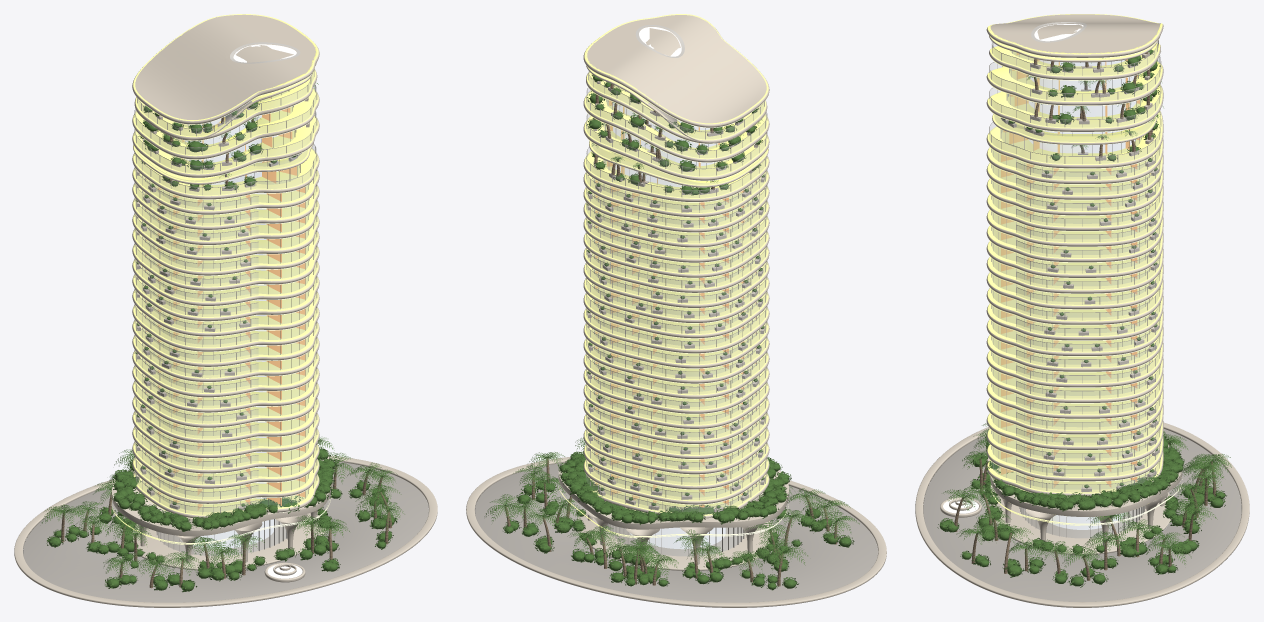
File: isabella_v3.glb
3 renders of one model, left to right at view 1: azimuth 30°, elevation 25°; view 2: azimuth 150°, elevation 25°; view 3: azimuth 270°, elevation 25°, orthographic. The views are drawn at different scales.
Visible parts, largest first — view 1: LM_slabs, LM_fascia, Glass_Mullion_Silver, RailGlass.001, Leaf, LM_plaza, Mullion_Silver, LED_Amber, PartyWall.001, Trunk, Interior_Wall, Lobby_Interior (+1 smaller); view 2: LM_slabs, RailGlass.001, LM_fascia, Leaf, Glass_Mullion_Silver, LM_plaza, Mullion_Silver, LED_Amber, PartyWall.001, Trunk, Interior_Wall, Lobby_Interior; view 3: LM_slabs, RailGlass.001, Glass_Mullion_Silver, LM_fascia, Leaf, LM_plaza, Mullion_Silver, LED_Amber, PartyWall.001, Interior_Wall, Trunk, Lobby_Interior (+1 smaller).
Boxes of the visible parts, <box> form: LM_slabs: <box>111,14,332,536</box>; LM_fascia: <box>14,14,437,607</box>; Glass_Mullion_Silver: <box>142,90,309,555</box>; RailGlass.001: <box>135,72,316,514</box>; Leaf: <box>41,83,404,592</box>; LM_plaza: <box>23,461,428,602</box>; Mullion_Silver: <box>134,69,317,514</box>; LED_Amber: <box>111,74,332,544</box>; PartyWall.001: <box>145,97,305,510</box>; Trunk: <box>61,117,391,588</box>; Interior_Wall: <box>184,115,278,498</box>; Lobby_Interior: <box>180,519,275,548</box>; LM_slabs: <box>558,14,788,529</box>; RailGlass.001: <box>586,71,766,514</box>; LM_fascia: <box>466,15,886,607</box>; Leaf: <box>484,74,859,590</box>; Glass_Mullion_Silver: <box>592,85,759,556</box>; LM_plaza: <box>475,462,877,602</box>; Mullion_Silver: <box>586,72,767,511</box>; LED_Amber: <box>558,65,788,538</box>; PartyWall.001: <box>595,89,756,507</box>; Trunk: <box>505,83,837,586</box>; Interior_Wall: <box>613,102,717,187</box>; Lobby_Interior: <box>630,527,725,549</box>; LM_slabs: <box>986,14,1182,516</box>; RailGlass.001: <box>989,42,1160,492</box>; Glass_Mullion_Silver: <box>991,51,1152,537</box>; LM_fascia: <box>915,14,1249,607</box>; Leaf: <box>937,43,1231,587</box>; LM_plaza: <box>923,429,1241,601</box>; Mullion_Silver: <box>989,40,1161,492</box>; LED_Amber: <box>989,36,1182,525</box>; PartyWall.001: <box>1001,53,1150,487</box>; Interior_Wall: <box>1028,59,1136,153</box>; Trunk: <box>954,52,1216,580</box>; Lobby_Interior: <box>1049,512,1125,529</box>.
Bounding box in the file's own units: 170 × 201 × 123.
